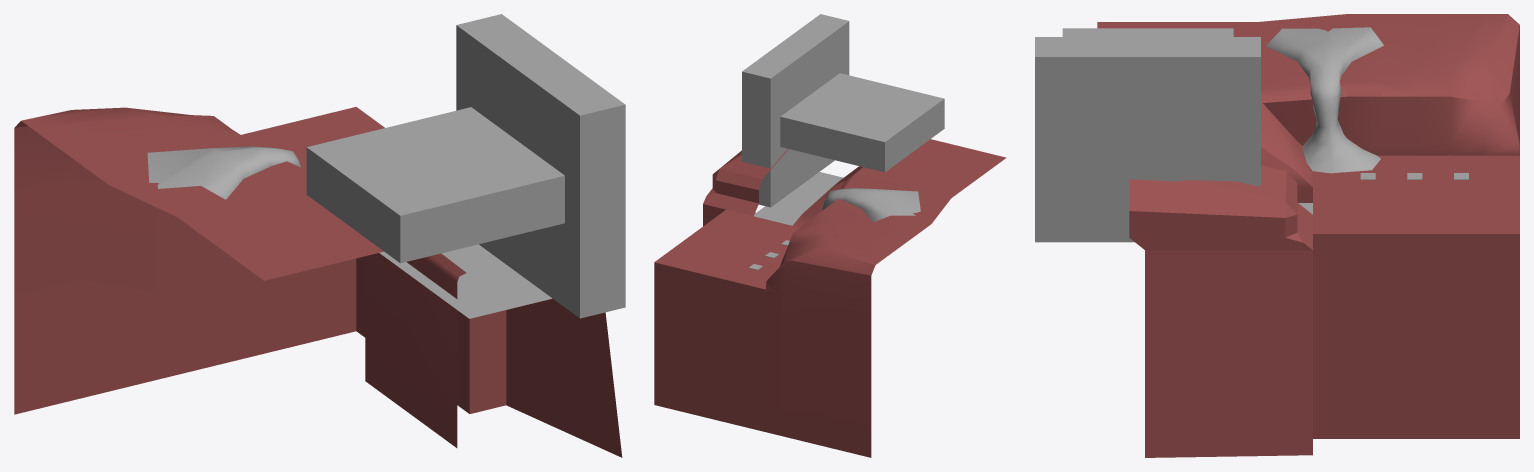
The model's file is NEW_N1_Shop.fbx.
3 views of the same model, side by side, from view 1: azimuth 30°, elevation 25°; view 2: azimuth 150°, elevation 25°; view 3: azimuth 270°, elevation 25° (orthographic). The views are drawn at different scales.
Parts seen in each view (by area): view 1: Escenario, Concreto1, Concreto, Arena, ArenaCayendo; view 2: Escenario, Concreto1, Concreto, ArenaCayendo, Arena; view 3: Escenario, Concreto1, ArenaCayendo, Concreto.
Part boxes in pixels (x1,y1,x2,y2): Escenario: [14, 107, 622, 457]; Concreto1: [456, 14, 625, 318]; Concreto: [306, 107, 564, 263]; Arena: [379, 244, 552, 318]; ArenaCayendo: [147, 146, 301, 199]; Escenario: [654, 139, 1006, 457]; Concreto1: [742, 14, 849, 207]; Concreto: [780, 73, 944, 172]; ArenaCayendo: [821, 188, 920, 222]; Arena: [754, 172, 843, 225]; Escenario: [1097, 14, 1519, 457]; Concreto1: [1035, 37, 1260, 242]; ArenaCayendo: [1266, 27, 1383, 173]; Concreto: [1062, 28, 1233, 36].
Size of what is drawn, in the model's own units: 90.87 by 90.62 by 104.
